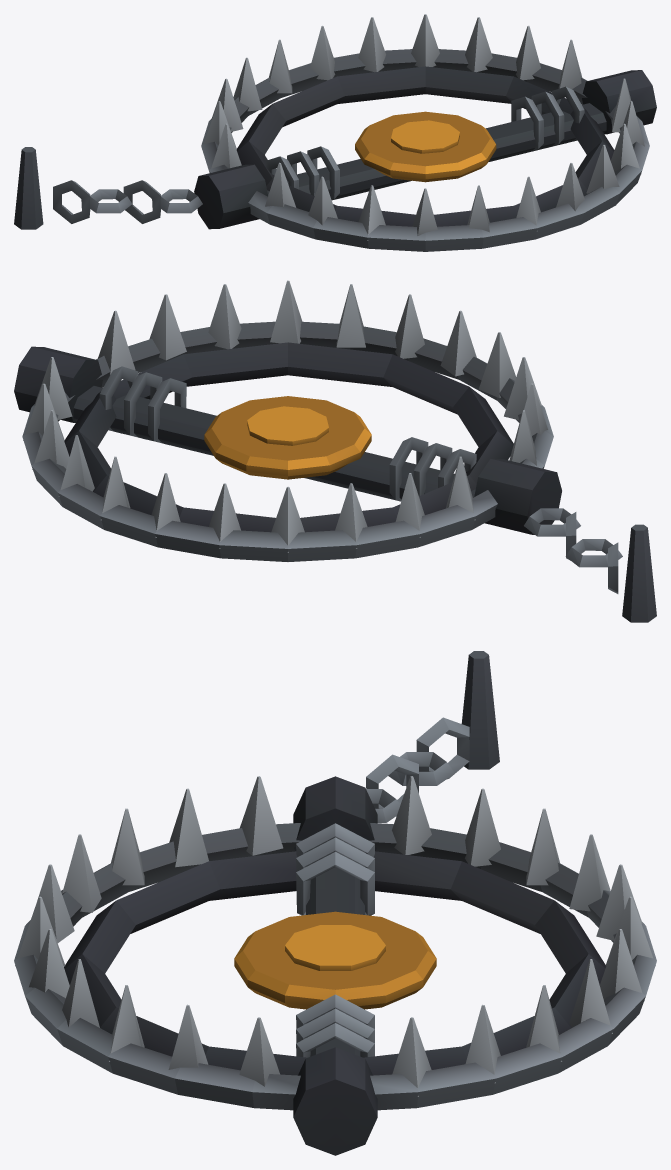
Rendered from beartrap.glb.
The picture shows the model from 3 angles, top to bottom: view 1: azimuth 30°, elevation 25°; view 2: azimuth 150°, elevation 25°; view 3: azimuth 270°, elevation 25°; orthographic projection. The views are drawn at different scales.
Visible parts, largest first — view 1: Body, JawR, JawL; view 2: Body, JawL, JawR; view 3: Body, JawL, JawR.
Part boxes in pixels (<box>): Body: <box>14,66,656,229</box>; JawR: <box>248,78,649,251</box>; JawL: <box>201,14,587,172</box>; Body: <box>14,342,656,622</box>; JawL: <box>22,357,497,561</box>; JawR: <box>96,280,553,468</box>; Body: <box>64,651,606,1155</box>; JawL: <box>369,776,656,1110</box>; JawR: <box>14,776,301,1110</box>.
Size of the model in its own units: 1.13 by 0.1427 by 0.7622.
